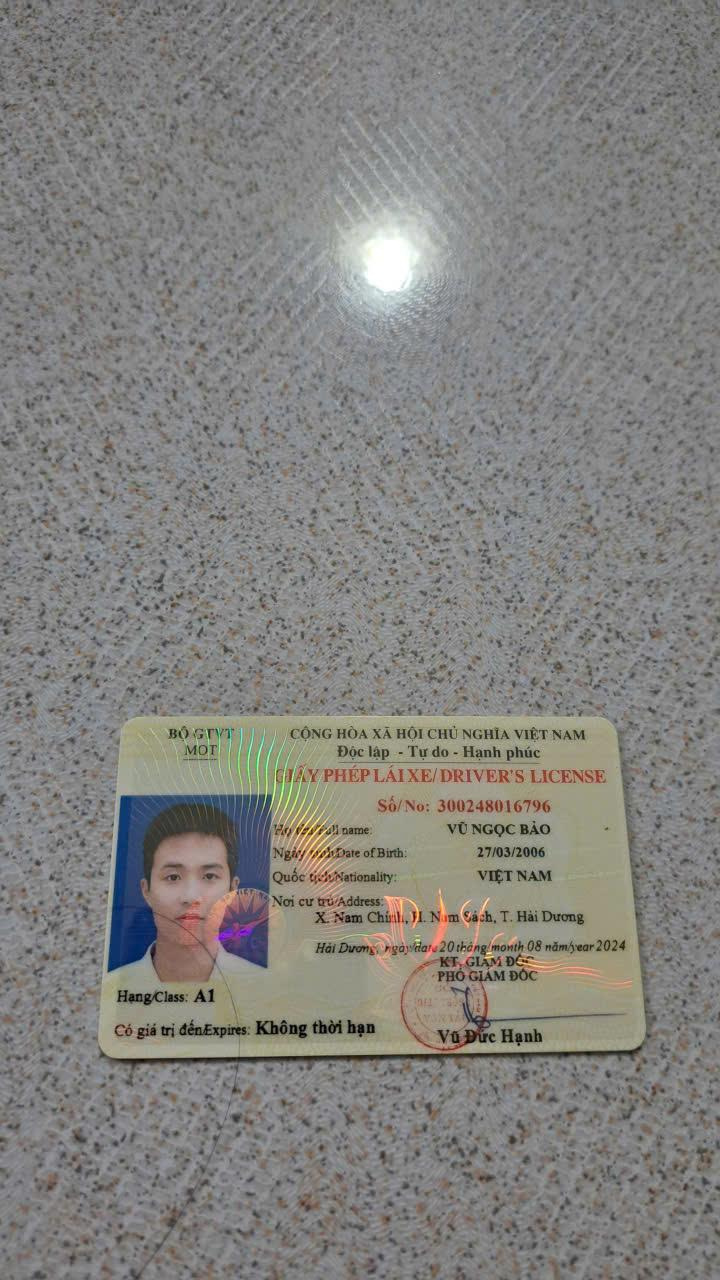gplx: (92, 699, 650, 1063)
